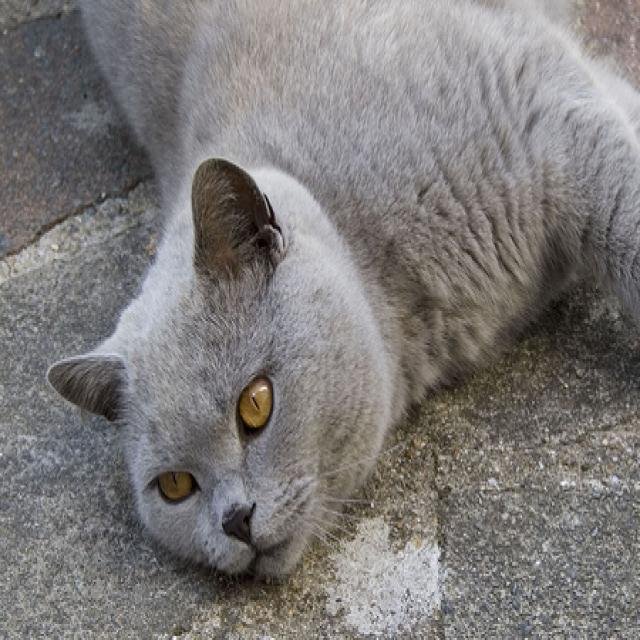British Shorthair: (37, 0, 640, 586)
